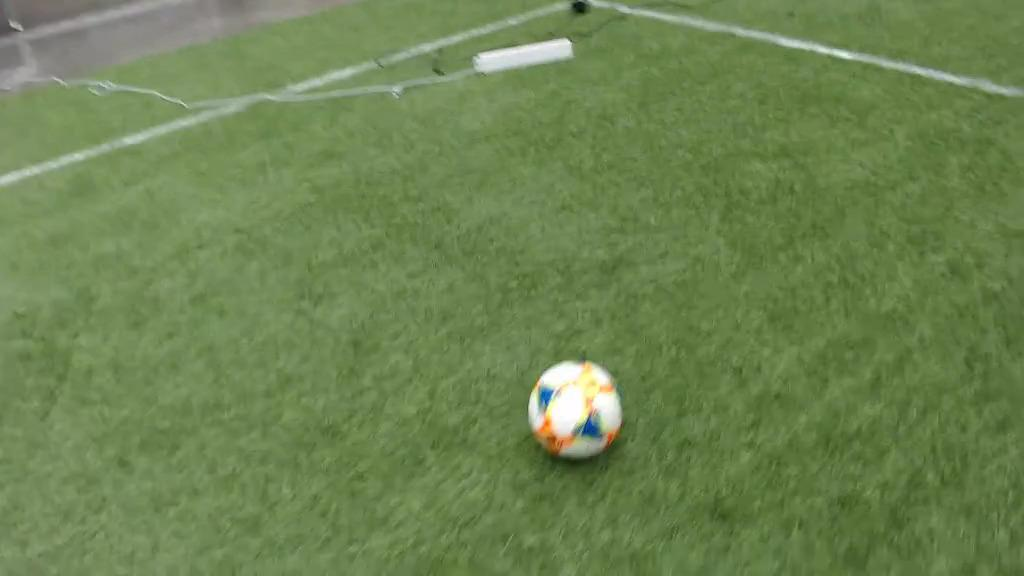ball: (528, 358, 622, 457)
